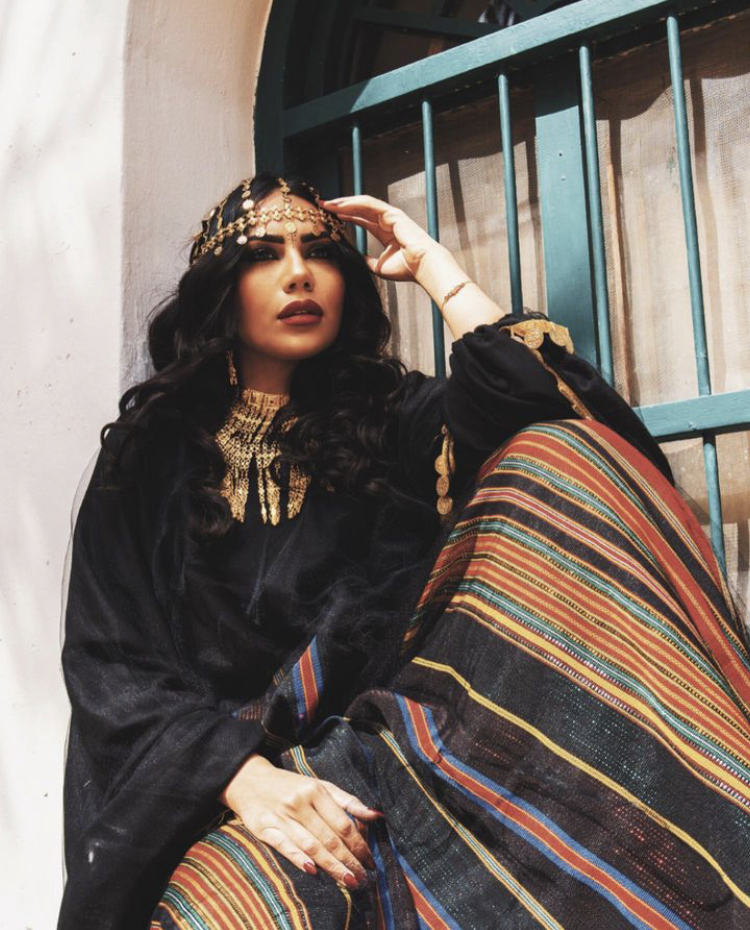Saudi_Founding_Day: (52, 164, 750, 929)
